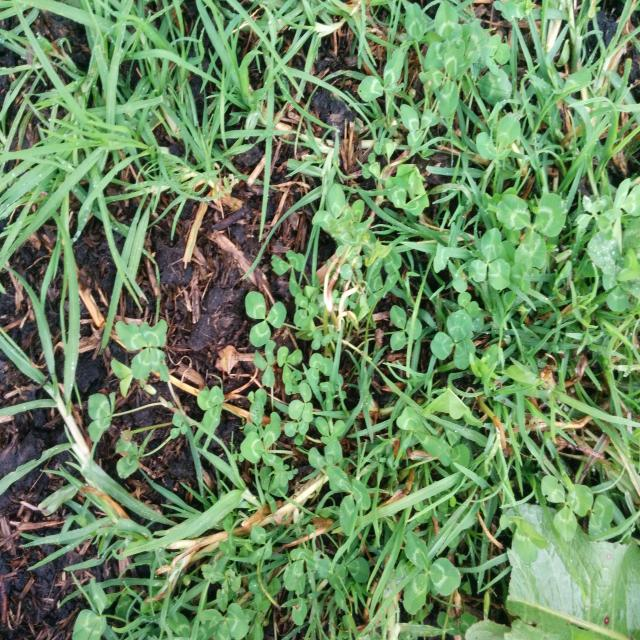Four Leaf Clover: (116, 319, 170, 382)
